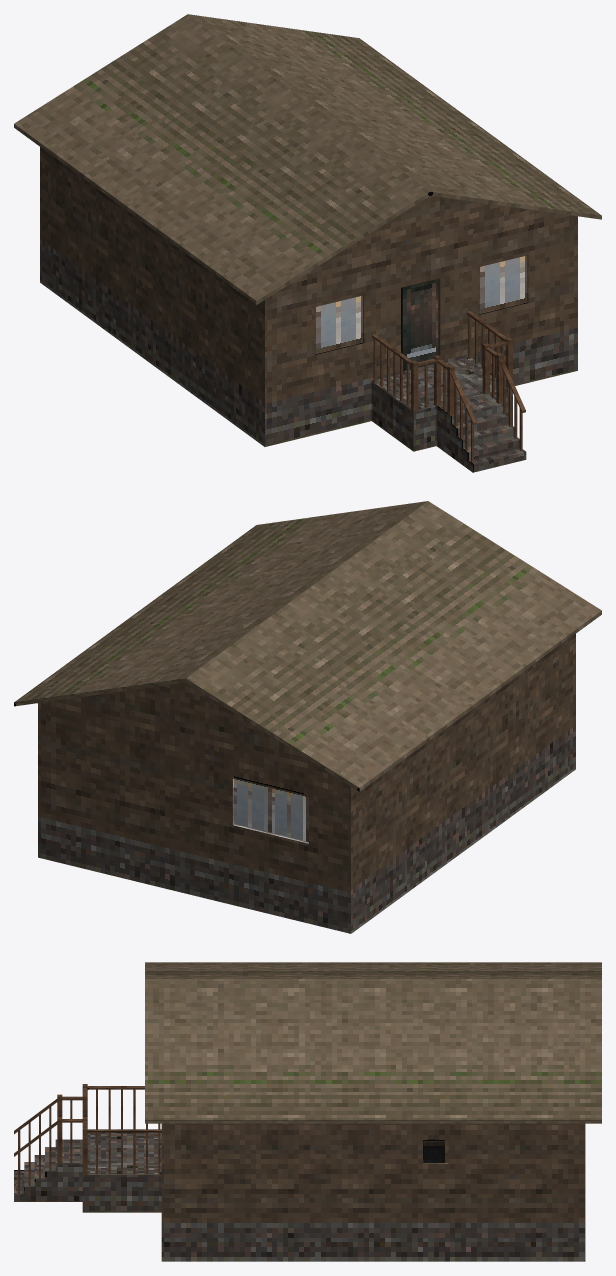
The model's file is house.glb.
The picture shows the model from 3 angles, top to bottom: view 1: azimuth 30°, elevation 25°; view 2: azimuth 150°, elevation 25°; view 3: azimuth 270°, elevation 25°; orthographic projection. The views are drawn at different scales.
Parts seen in each view (by area): view 1: house1, house1_windows, house1_door1; view 2: house1, house1_windows; view 3: house1, house1_windows.
Boxes of the visible parts, bbox=[...] form: house1: bbox=[14, 14, 601, 472]; house1_windows: bbox=[314, 255, 528, 354]; house1_door1: bbox=[402, 279, 438, 371]; house1: bbox=[14, 501, 601, 933]; house1_windows: bbox=[232, 777, 308, 843]; house1: bbox=[14, 962, 601, 1261]; house1_windows: bbox=[423, 1141, 448, 1163].
Size of the model in its own units: 9.05 by 5.6 by 14.15.
1 material, 1 textured.
